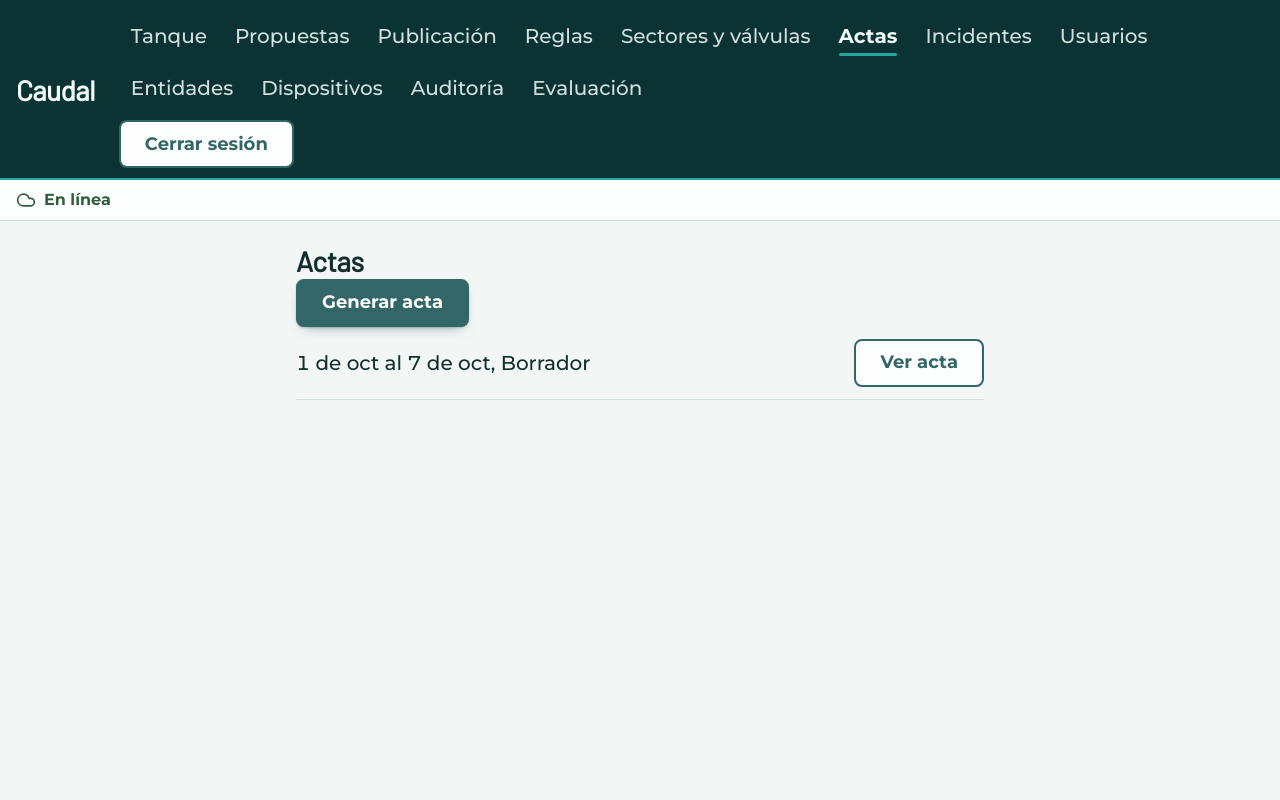
Scenario: MinutesPage (S20, board) › finalizes a draft after the confirmation and then offers the PDF and its hash
The image size is (1280, 800).
Click the button "Ver acta": (919, 363) 854,339 -> 984,387
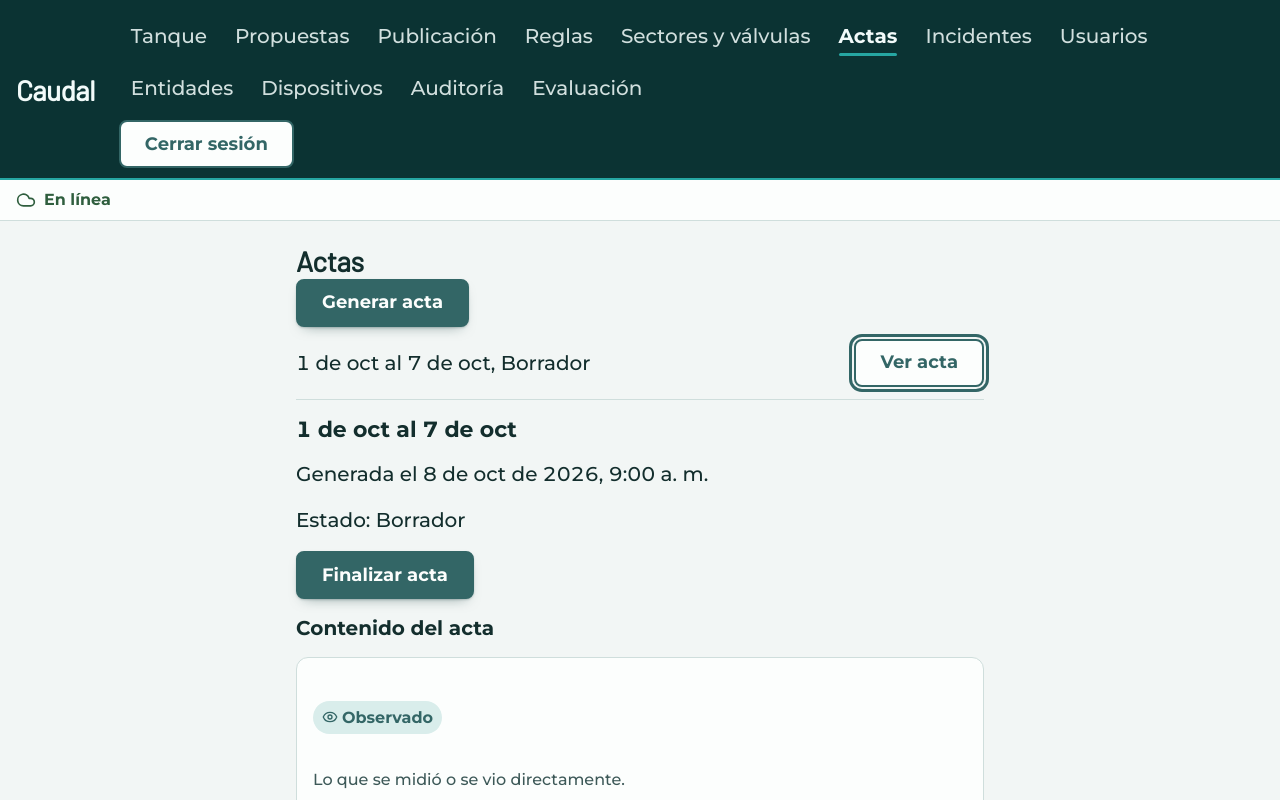
Click the button "Finalizar acta": (385, 575) 296,551 -> 474,599
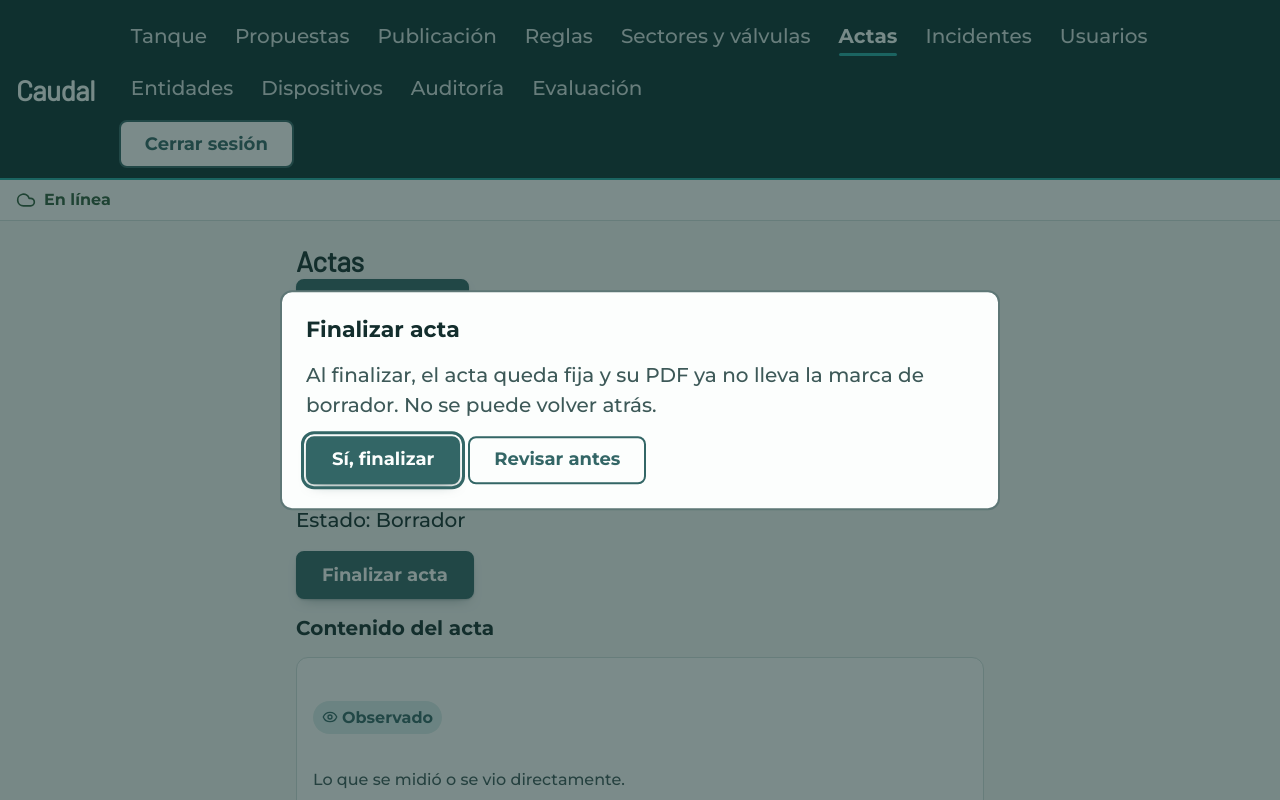
Click the button "Sí, finalizar": (383, 460) 306,436 -> 460,484
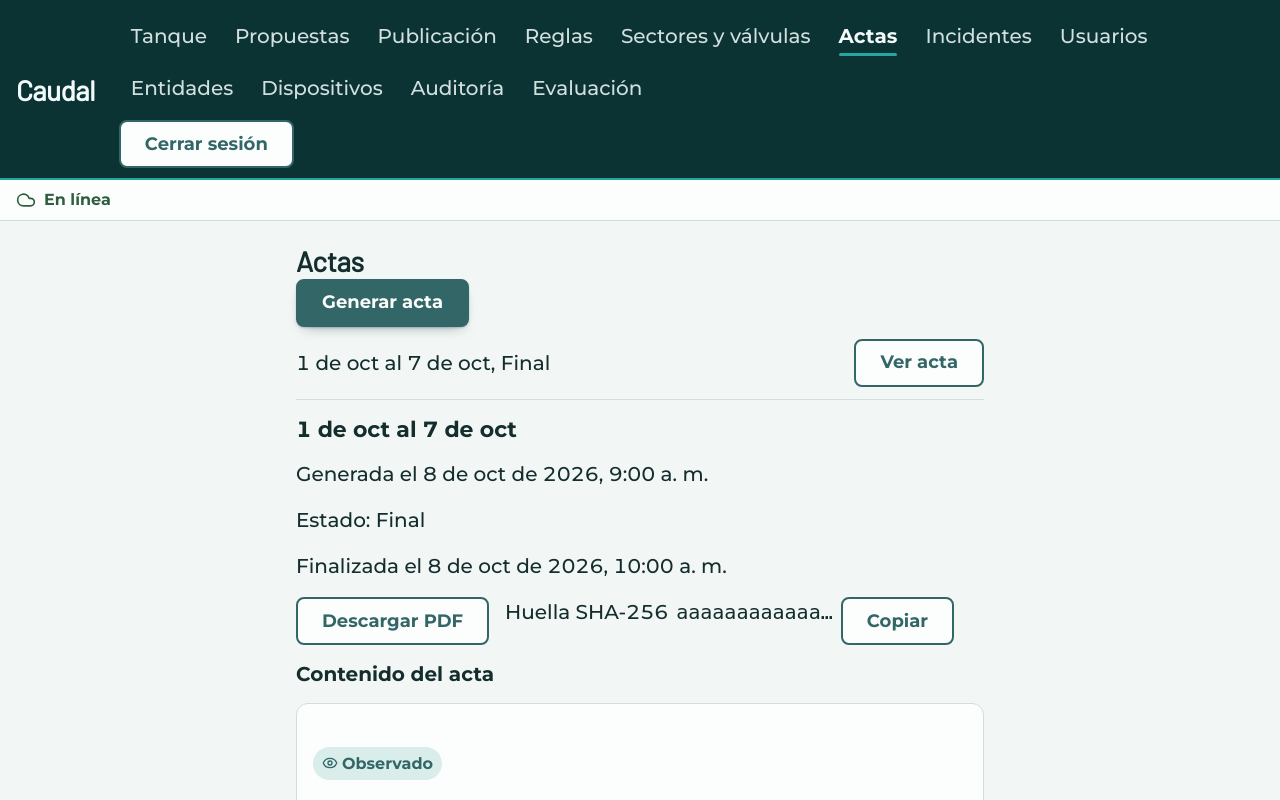
Check: the button "Descargar PDF" is enabled, box 296,597 -> 489,645
Check: the button "Finalizar acta" is gone
